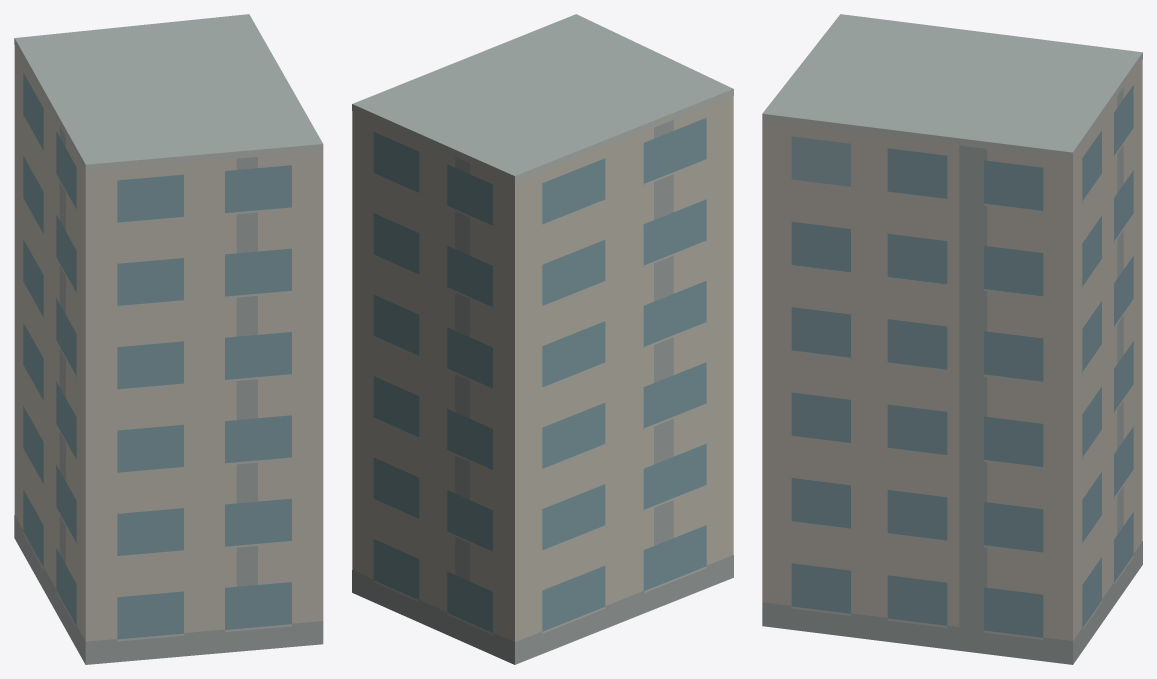
The model's file is survey-upis-32537168.glb.
3 renders of one model, left to right at view 1: azimuth 30°, elevation 25°; view 2: azimuth 150°, elevation 25°; view 3: azimuth 270°, elevation 25°, orthographic. The views are drawn at different scales.
Parts seen in each view (by area): view 1: survey-upis-32537168.tmp; view 2: survey-upis-32537168.tmp; view 3: survey-upis-32537168.tmp.
Part boxes in pixels (x1,y1,x2,y2): survey-upis-32537168.tmp: (14, 14, 323, 664); survey-upis-32537168.tmp: (352, 14, 733, 664); survey-upis-32537168.tmp: (762, 14, 1142, 664).
Size of the model in its own units: 9.92 by 17.1 by 11.52.
